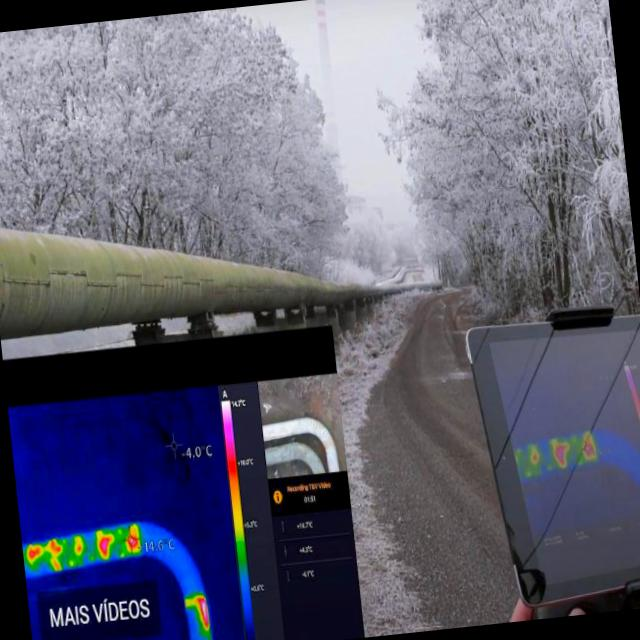gas: (0, 228, 390, 335)
